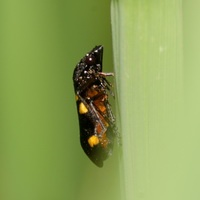insect: (73, 45, 115, 166)
